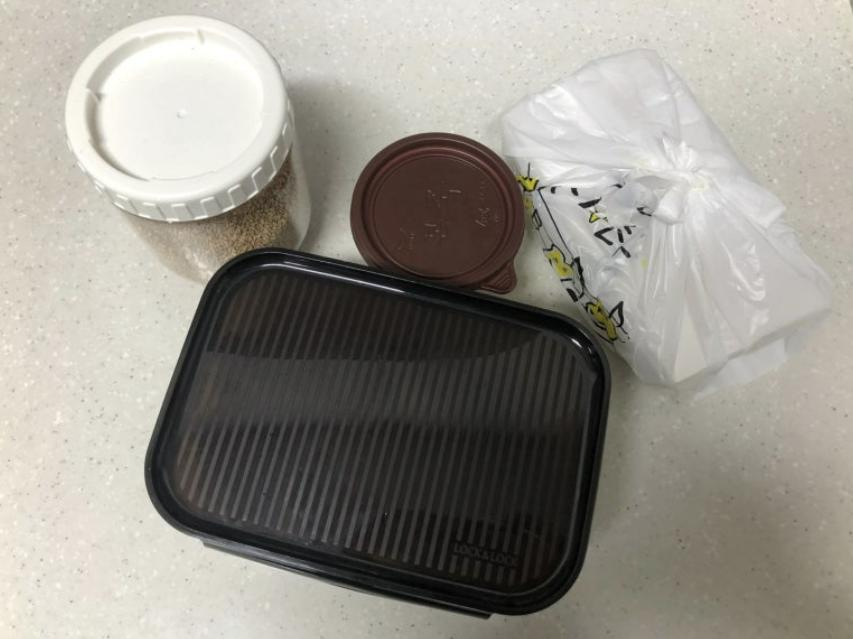cup: (350, 133, 523, 293)
